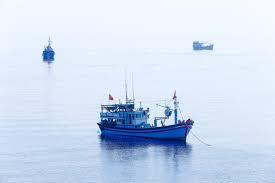Ship: (99, 85, 195, 144), (44, 47, 56, 62), (194, 43, 214, 51)
